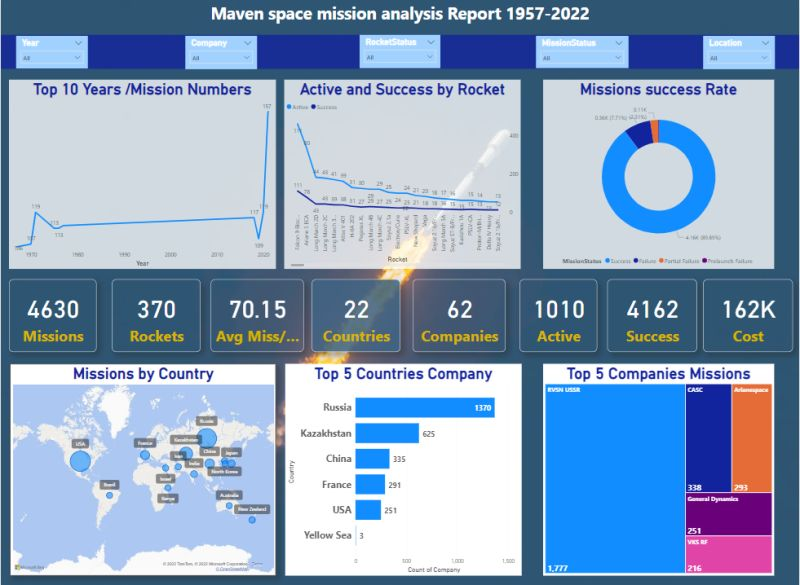

What the dashboard file says about the page in this screenshot:
{"tool":"powerbi","page":{"name":"Page 3","canvas":[1780,1310],"ordinal":0},"visuals":[{"type":"textbox","box":[0,80,1780,75.7],"z":0},{"type":"card","fields":{"Values":["CountNonNull(space_missions.Mission)"]},"box":[17.5,625,195,162.5],"z":1000},{"type":"textbox","box":[0,0,1780,60],"z":2000},{"type":"card","fields":{"Values":["Count(space_missions.Rocket)"]},"box":[247.5,625,197.5,162.5],"z":3000},{"type":"card","fields":{"Values":["Count(space_missions.Country)"]},"box":[692.5,625,197.5,162.5],"z":4000},{"type":"card","fields":{"Values":["Count(space_missions.Company)"]},"box":[917.5,625,207.5,162.5],"z":5000},{"type":"card","fields":{"Values":["space_missions.Active"]},"box":[1157.5,625,172.5,162.5],"z":6000},{"type":"card","fields":{"Values":["space_missions.Success"]},"box":[1352.5,625,200,162.5],"z":7000},{"type":"slicer","fields":{"Values":["space_missions.Year"]},"box":[34.3,82.9,160,72.9],"z":8000},{"type":"slicer","fields":{"Values":["space_missions.Company"]},"box":[412,82,160,74],"z":9000},{"type":"slicer","fields":{"Values":["space_missions.RocketStatus"]},"box":[800,80,180,74],"z":10000},{"type":"lineChart","title":"Top 10 Years /Mission Numbers","fields":{"Category":["space_missions.Date.Variation.Date Hierarchy.Year"],"Y":["CountNonNull(space_missions.Mission)"]},"box":[17.5,180,595,422.5],"z":11000},{"type":"lineChart","fields":{"Category":["space_missions.Rocket"],"Y":["space_missions.Active"],"Y2":["space_missions.Success"]},"box":[632.5,180,527.5,422.5],"z":12000},{"type":"donutChart","title":"Missions success Rate","fields":{"Category":["space_missions.MissionStatus"],"Y":["CountNonNull(space_missions.MissionStatus)"]},"box":[1210,180,515,422.5],"z":13000},{"type":"map","title":"Missions by Country","fields":{"Category":["space_missions.Country"],"Size":["CountNonNull(space_missions.Mission)"]},"box":[20,812.5,592.5,472.5],"z":14000},{"type":"clusteredBarChart","title":"Top 5 Countries Company","fields":{"Category":["space_missions.Country"],"Y":["CountNonNull(space_missions.Company)"]},"box":[635,812.5,527.5,472.5],"z":15000},{"type":"treemap","title":"Top 5 Companies Missions","fields":{"Group":["space_missions.Company"],"Values":["CountNonNull(space_missions.Mission)"]},"box":[1210,812.5,515,472.5],"z":16000},{"type":"slicer","fields":{"Values":["space_missions.MissionStatus"]},"box":[1194,82,206,72],"z":17000},{"type":"slicer","fields":{"Values":["space_missions.Location"]},"box":[1566,82,160,74],"z":18000},{"type":"card","fields":{"Values":["space_missions.Average Mission"]},"box":[467.5,625,207.5,162.5],"z":19000},{"type":"card","fields":{"Values":["space_missions.Cost"]},"box":[1565,625,200,162.5],"z":20000}]}

Visuals, with their boxes in screenshot pixels (x1, y1, x2, y2), scaled from the page's 1780x1310 canvas onto the 800x585 screenshot:
textbox: Rect(0, 36, 799, 70)
card - CountNonNull(space_missions.Mission): Rect(8, 279, 96, 352)
textbox: Rect(0, 0, 799, 27)
card - Count(space_missions.Rocket): Rect(111, 279, 200, 352)
card - Count(space_missions.Country): Rect(311, 279, 400, 352)
card - Count(space_missions.Company): Rect(412, 279, 506, 352)
card - space_missions.Active: Rect(520, 279, 598, 352)
card - space_missions.Success: Rect(608, 279, 698, 352)
slicer - space_missions.Year: Rect(15, 37, 87, 70)
slicer - space_missions.Company: Rect(185, 37, 257, 70)
slicer - space_missions.RocketStatus: Rect(360, 36, 440, 69)
"Top 10 Years /Mission Numbers" lineChart: Rect(8, 80, 275, 269)
lineChart - space_missions.Rocket x space_missions.Active: Rect(284, 80, 521, 269)
"Missions success Rate" donutChart: Rect(544, 80, 775, 269)
"Missions by Country" map: Rect(9, 363, 275, 574)
"Top 5 Countries Company" clusteredBarChart: Rect(285, 363, 522, 574)
"Top 5 Companies Missions" treemap: Rect(544, 363, 775, 574)
slicer - space_missions.MissionStatus: Rect(537, 37, 629, 69)
slicer - space_missions.Location: Rect(704, 37, 776, 70)
card - space_missions.Average Mission: Rect(210, 279, 303, 352)
card - space_missions.Cost: Rect(703, 279, 793, 352)
